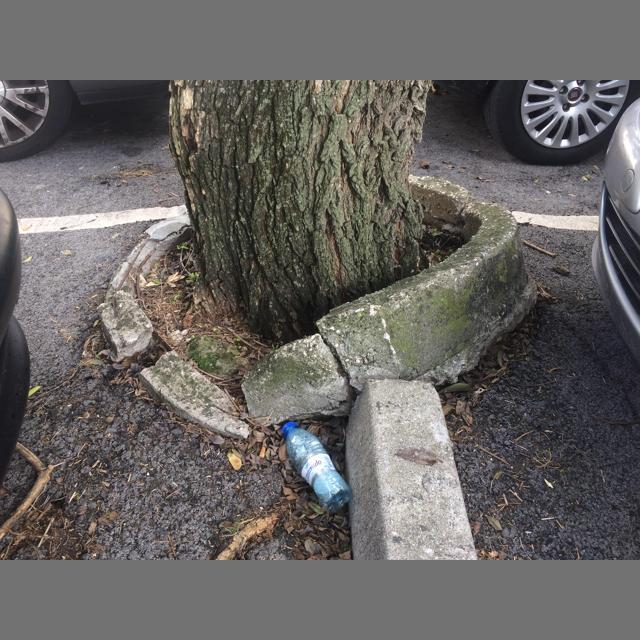litter: (282, 422, 351, 511)
